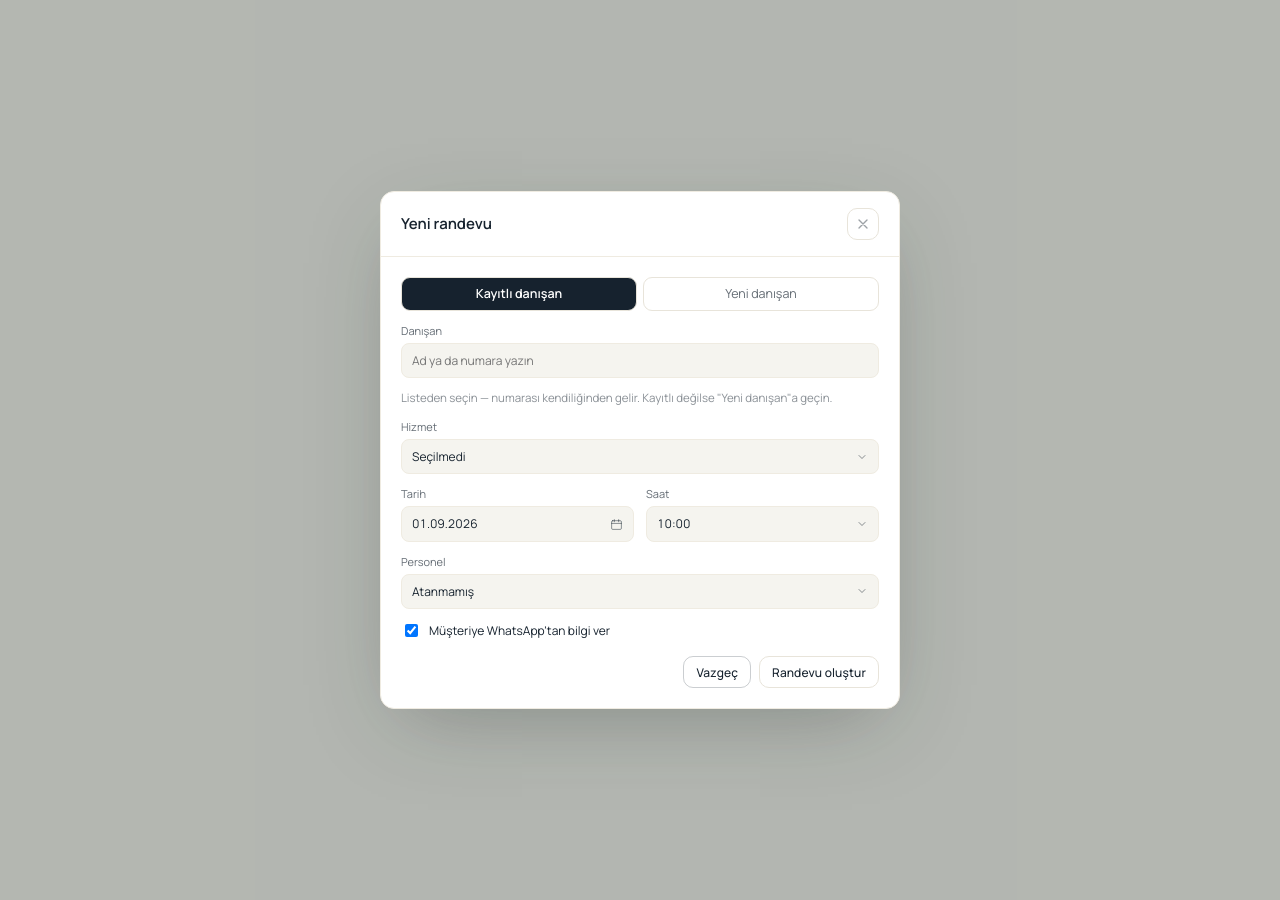
Scenario: AppointmentModal · kayıtlı danışan › adsız danışan numarasıyla listeleniyor
Type "0533" into the dropdown labelled "Danışan" at (640, 361), box [401,343,879,378]
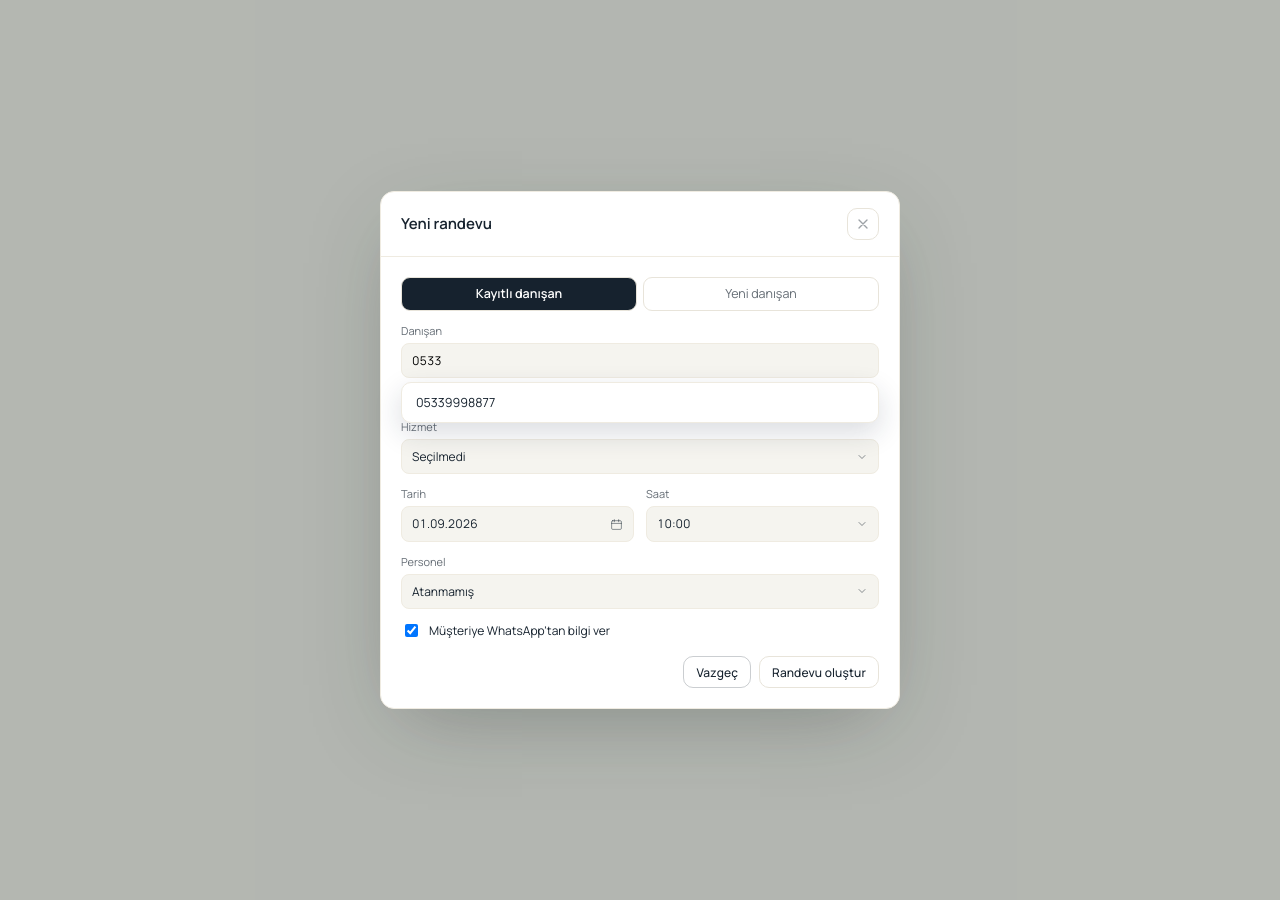
Expected: the text "05339998877" is shown, [416,394,495,411]
